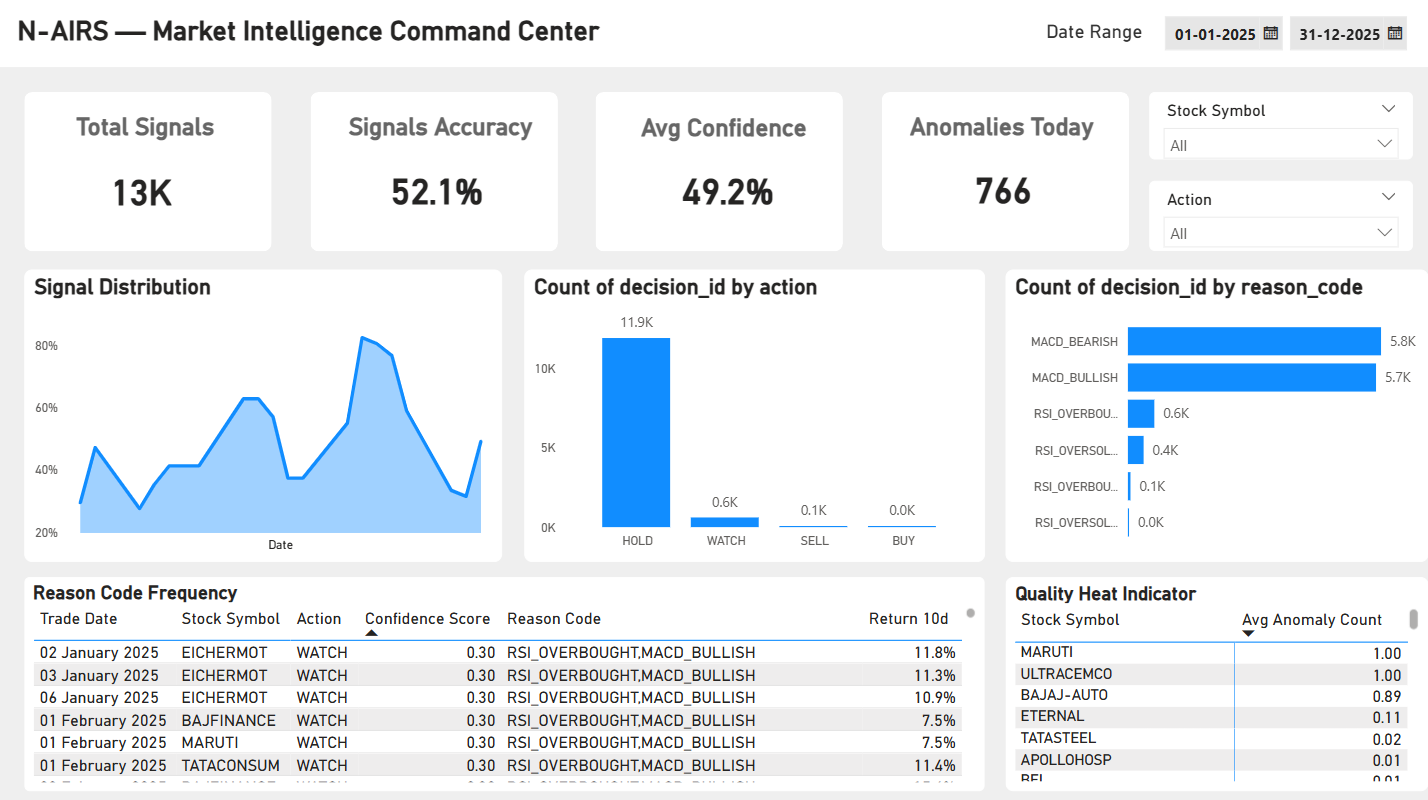

What the dashboard file says about the page in this screenshot:
{"tool":"powerbi","page":{"name":"Main Dashboard","canvas":[1280,720],"ordinal":0},"visuals":[{"type":"shape","box":[531.4,84.3,219.9,141.7],"z":0},{"type":"shape","box":[277.3,84.3,219.9,141.7],"z":1000},{"type":"shape","box":[0,0,1280.2,62.3],"z":2000},{"type":"shape","box":[785.5,84.3,219.9,141.7],"z":3000},{"type":"textbox","box":[12.2,11,565.6,62.3],"z":4000},{"type":"shape","box":[23.2,84.3,219.9,141.7],"z":5000},{"type":"cardVisual","fields":{"Data":["nairs fact_signals.Total_signal"]},"box":[70.9,130.7,124.6,83.1],"z":6000},{"type":"textbox","box":[64.7,97.7,136.8,45.2],"z":7000},{"type":"cardVisual","fields":{"Data":["nairs fact_signals.Signal Accuracy %"]},"box":[318.8,136.8,142.9,70.9],"z":8000},{"type":"textbox","box":[306.6,97.7,190.6,45.2],"z":9000},{"type":"textbox","box":[542.2,98.9,208.9,45.6],"z":10000},{"type":"textbox","box":[805,97.7,180.8,45.2],"z":11000},{"type":"cardVisual","fields":{"Data":["nairs fact_signals.Avg Confidence"]},"box":[579,136.8,147.8,70.9],"z":12000},{"type":"cardVisual","fields":{"Data":["nairs rpt_quality_summary.Anomalies Today"]},"box":[839.2,139.3,112.4,64.7],"z":13000},{"type":"areaChart","title":"Signal Trend","fields":{"Category":["nairs dim_calendar.date_key"],"Y":["nairs fact_signals.Signal Accuracy %"]},"box":[23.2,241.9,425.1,260.2],"z":14000},{"type":"columnChart","title":"Decision Mix (%)","fields":{"Category":["nairs fact_signals.action"],"Y":["nairs fact_signals.Decision %"]},"box":[467.3,241.9,409.2,260.2],"z":15000},{"type":"tableEx","title":"Reason Code Frequency","fields":{"Values":["nairs fact_signals.trade_date","nairs fact_signals.stock_symbol","nairs fact_signals.action","nairs fact_signals.confidence_score","nairs fact_signals.reason_code","nairs fact_signals.return_10d"]},"box":[23.2,515.5,853.9,190.6],"z":16000},{"type":"slicer","fields":{"Values":["nairs dim_stocks.stock_symbol"]},"box":[1023.7,84.3,234.5,59.9],"z":17000},{"type":"barChart","title":"Reason Code","fields":{"Category":["nairs fact_signals.reason_code"],"Y":["CountNonNull(nairs fact_signals.decision_id)"]},"box":[895.6,242.2,376.7,260],"z":18000},{"type":"slicer","fields":{"Values":["nairs dim_calendar.date_key"]},"box":[1024.1,6.3,234.5,51.5],"z":19000},{"type":"textbox","box":[926.3,15.8,113.6,31.5],"z":20000},{"type":"slicer","fields":{"Values":["nairs fact_signals.action"]},"box":[1023.7,163.7,234.5,62.3],"z":21000},{"type":"pivotTable","title":"Quality Heat Indicator","fields":{"Rows":["nairs rpt_quality_summary.stock_symbol"],"Values":["Avg(nairs rpt_quality_summary.anomaly_count)"]},"box":[895.4,515.5,376.3,190.6],"z":22000}]}

Visuals, with their boxes in screenshot pixels (x1, y1, x2, y2), scaled from the page's 1280x720 canvas onto the 1428x800 screenshot:
shape: 593, 94, 838, 251
shape: 309, 94, 555, 251
shape: 0, 0, 1427, 69
shape: 876, 94, 1122, 251
textbox: 14, 12, 645, 81
shape: 26, 94, 271, 251
cardVisual - nairs fact_signals.Total_signal: 79, 145, 218, 238
textbox: 72, 109, 225, 159
cardVisual - nairs fact_signals.Signal Accuracy %: 356, 152, 515, 231
textbox: 342, 109, 555, 159
textbox: 605, 110, 838, 161
textbox: 898, 109, 1100, 159
cardVisual - nairs fact_signals.Avg Confidence: 646, 152, 811, 231
cardVisual - nairs rpt_quality_summary.Anomalies Today: 936, 155, 1062, 227
"Signal Trend" areaChart: 26, 269, 500, 558
"Decision Mix (%)" columnChart: 521, 269, 978, 558
"Reason Code Frequency" tableEx: 26, 573, 979, 785
slicer - nairs dim_stocks.stock_symbol: 1142, 94, 1404, 160
"Reason Code" barChart: 999, 269, 1419, 558
slicer - nairs dim_calendar.date_key: 1143, 7, 1404, 64
textbox: 1033, 18, 1160, 53
slicer - nairs fact_signals.action: 1142, 182, 1404, 251
"Quality Heat Indicator" pivotTable: 999, 573, 1419, 785
